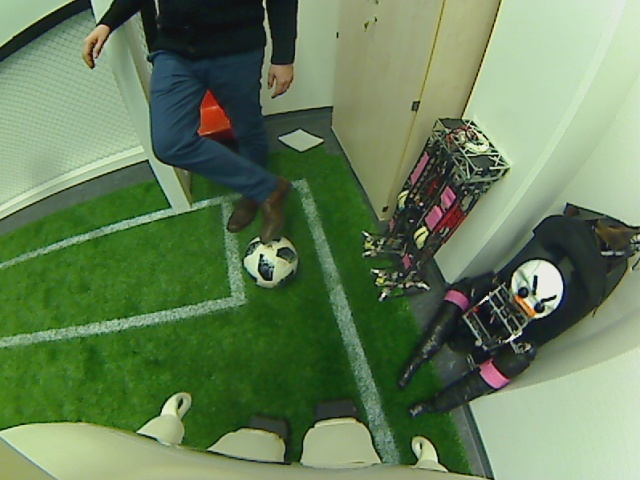ball: (245, 234, 296, 287)
